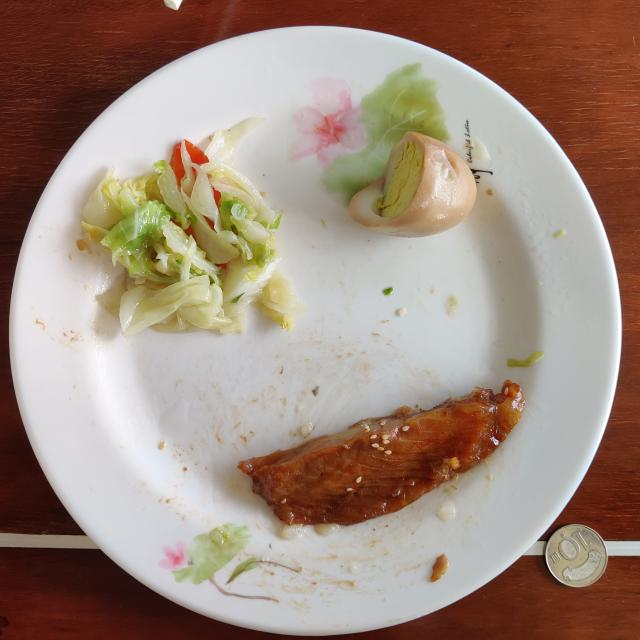Kabayaki sea bream fillet: (239, 380, 524, 525)
cabbage: (82, 119, 306, 338)
coin: (545, 525, 608, 588)
soy egg: (349, 131, 476, 238)
